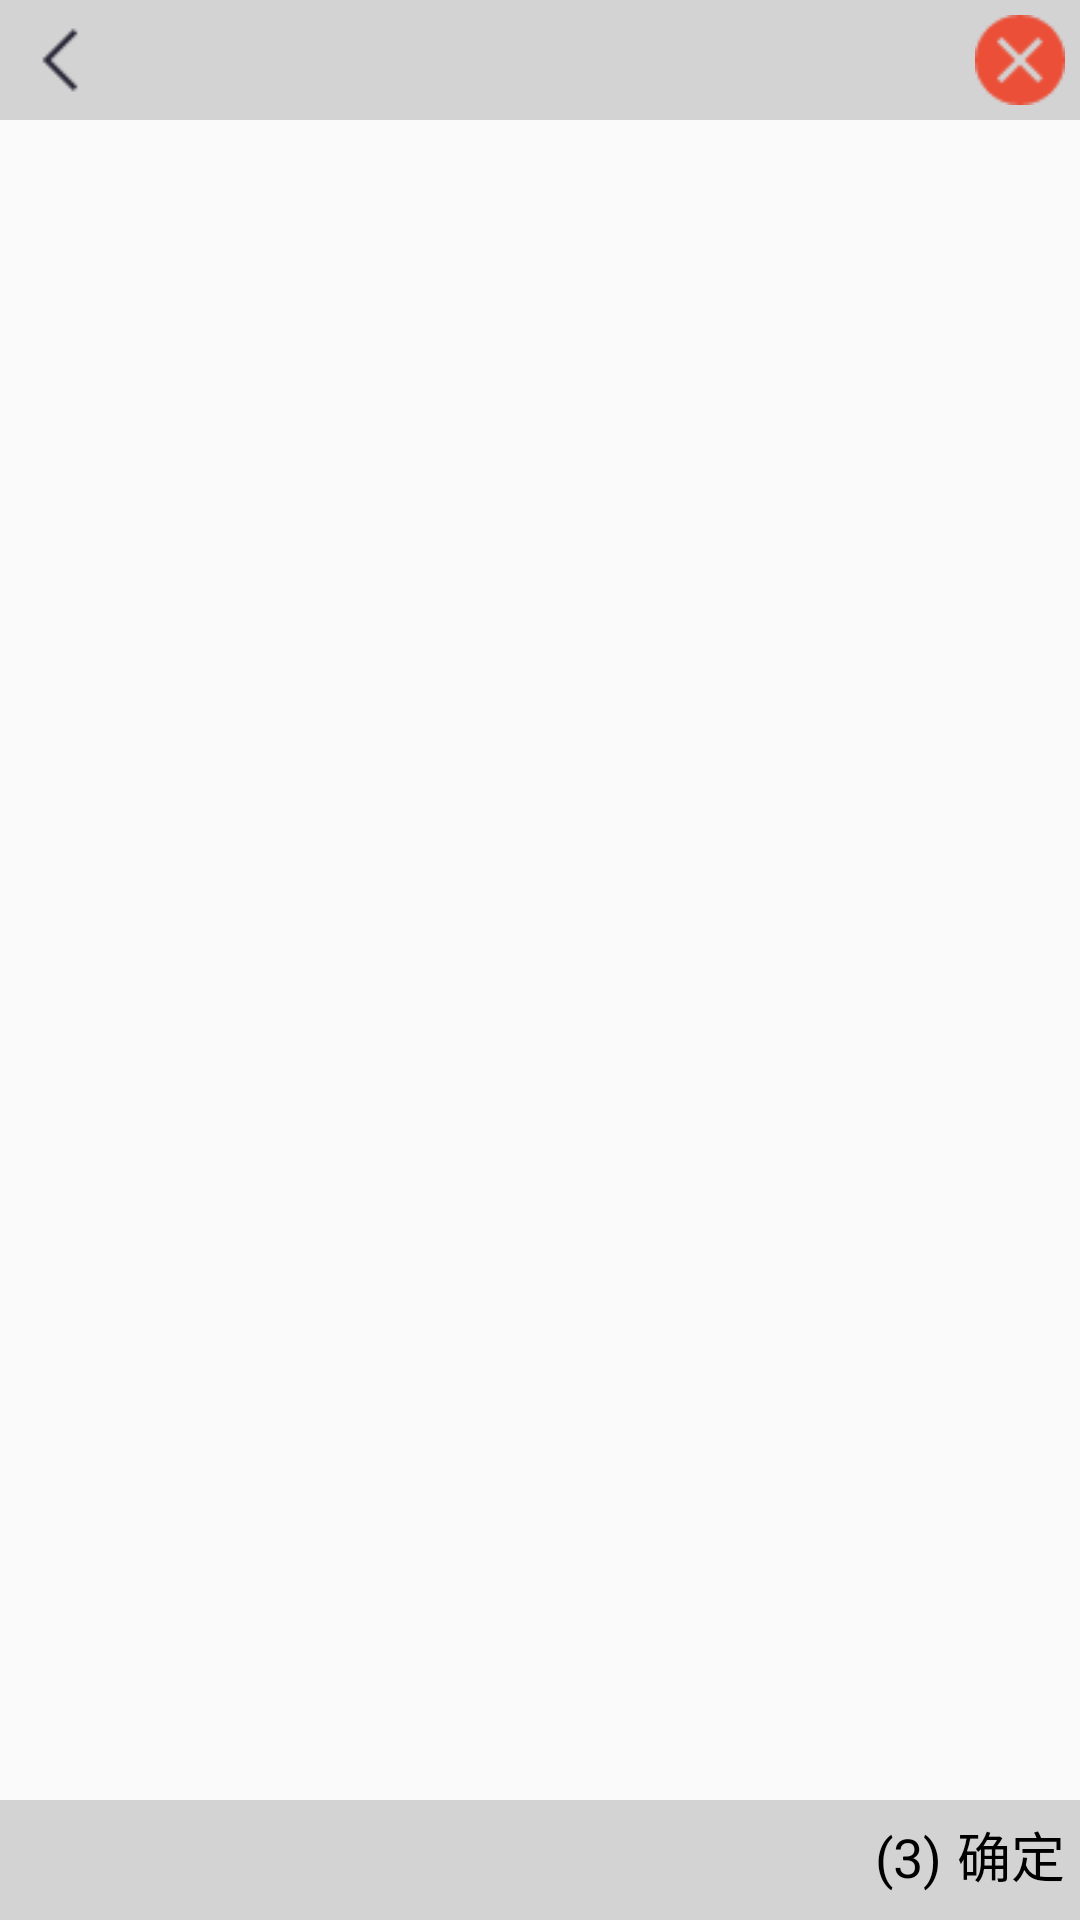

Screen size 1080 x 1920. Icon name, then its box in pixels as (x1, y1, x2, y2):
delete: (975, 15, 1065, 105)
left arrow: (42, 28, 78, 92)
